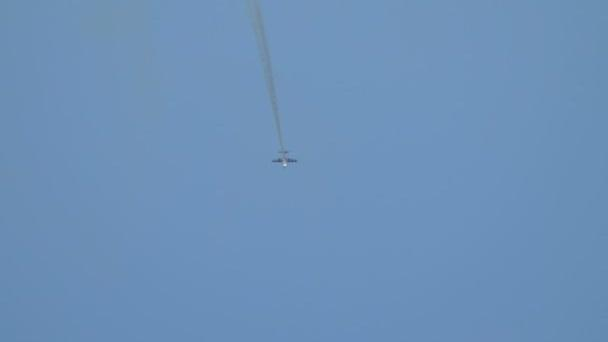Plane: (258, 143, 311, 174)
